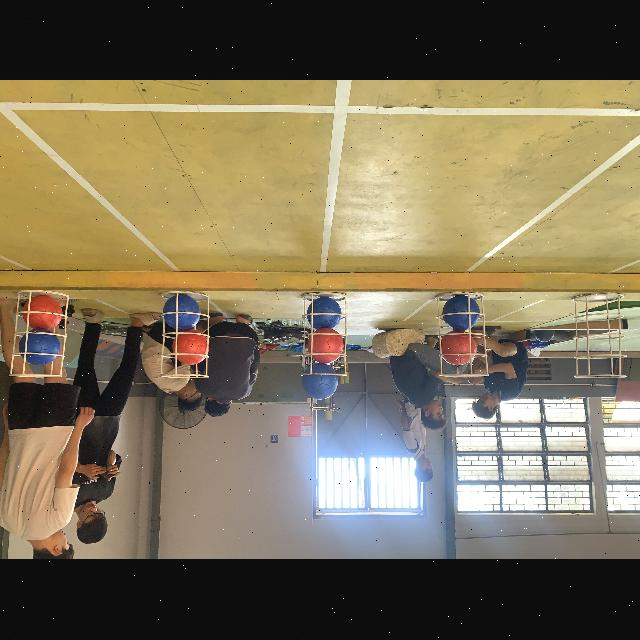B: (20, 328, 60, 366), (443, 294, 479, 332), (163, 294, 200, 330), (302, 364, 338, 400), (308, 298, 342, 330)
R: (23, 295, 63, 331), (172, 330, 210, 366), (308, 327, 344, 363), (439, 332, 476, 366)
